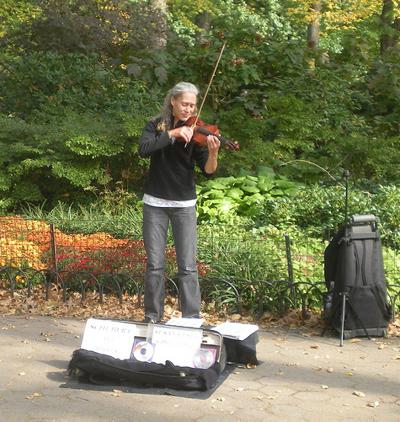person: (138, 83, 225, 325)
